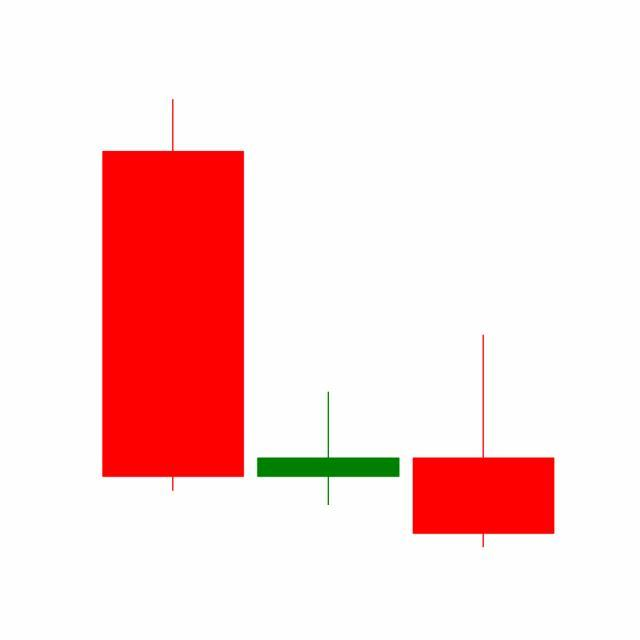Gravestone Doji: (250, 391, 407, 507)
